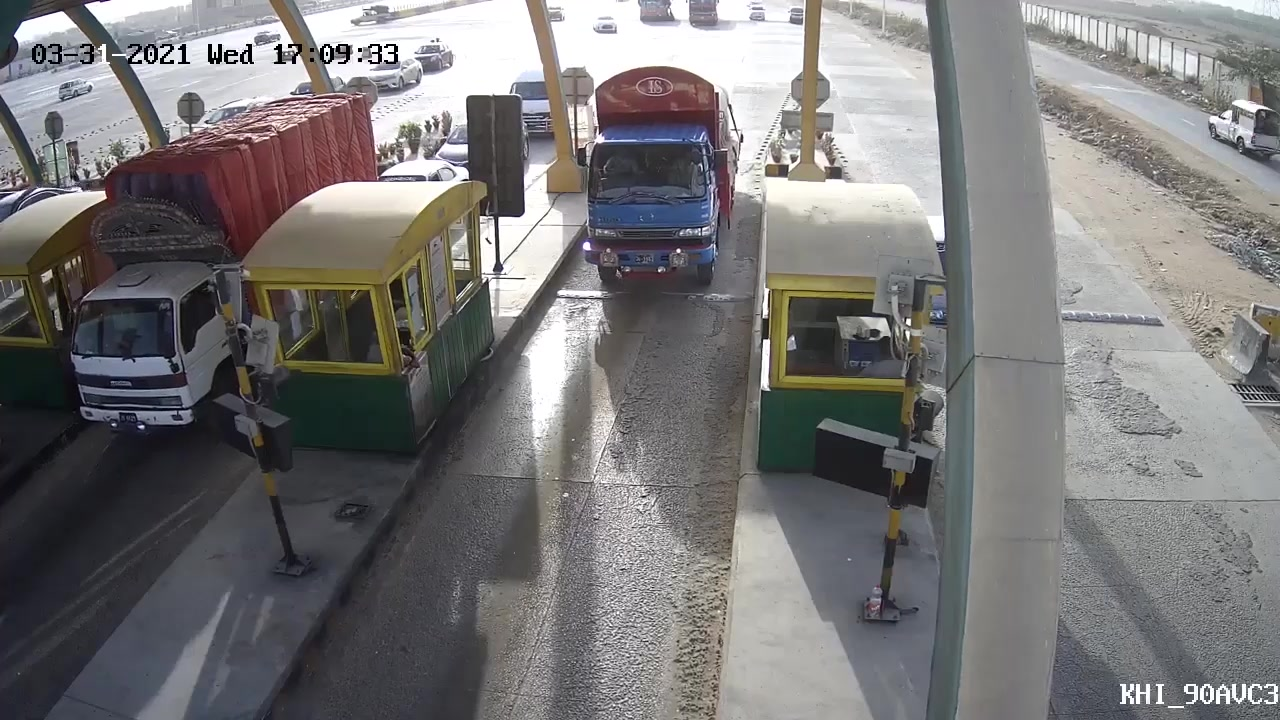F5: (566, 60, 750, 313)
